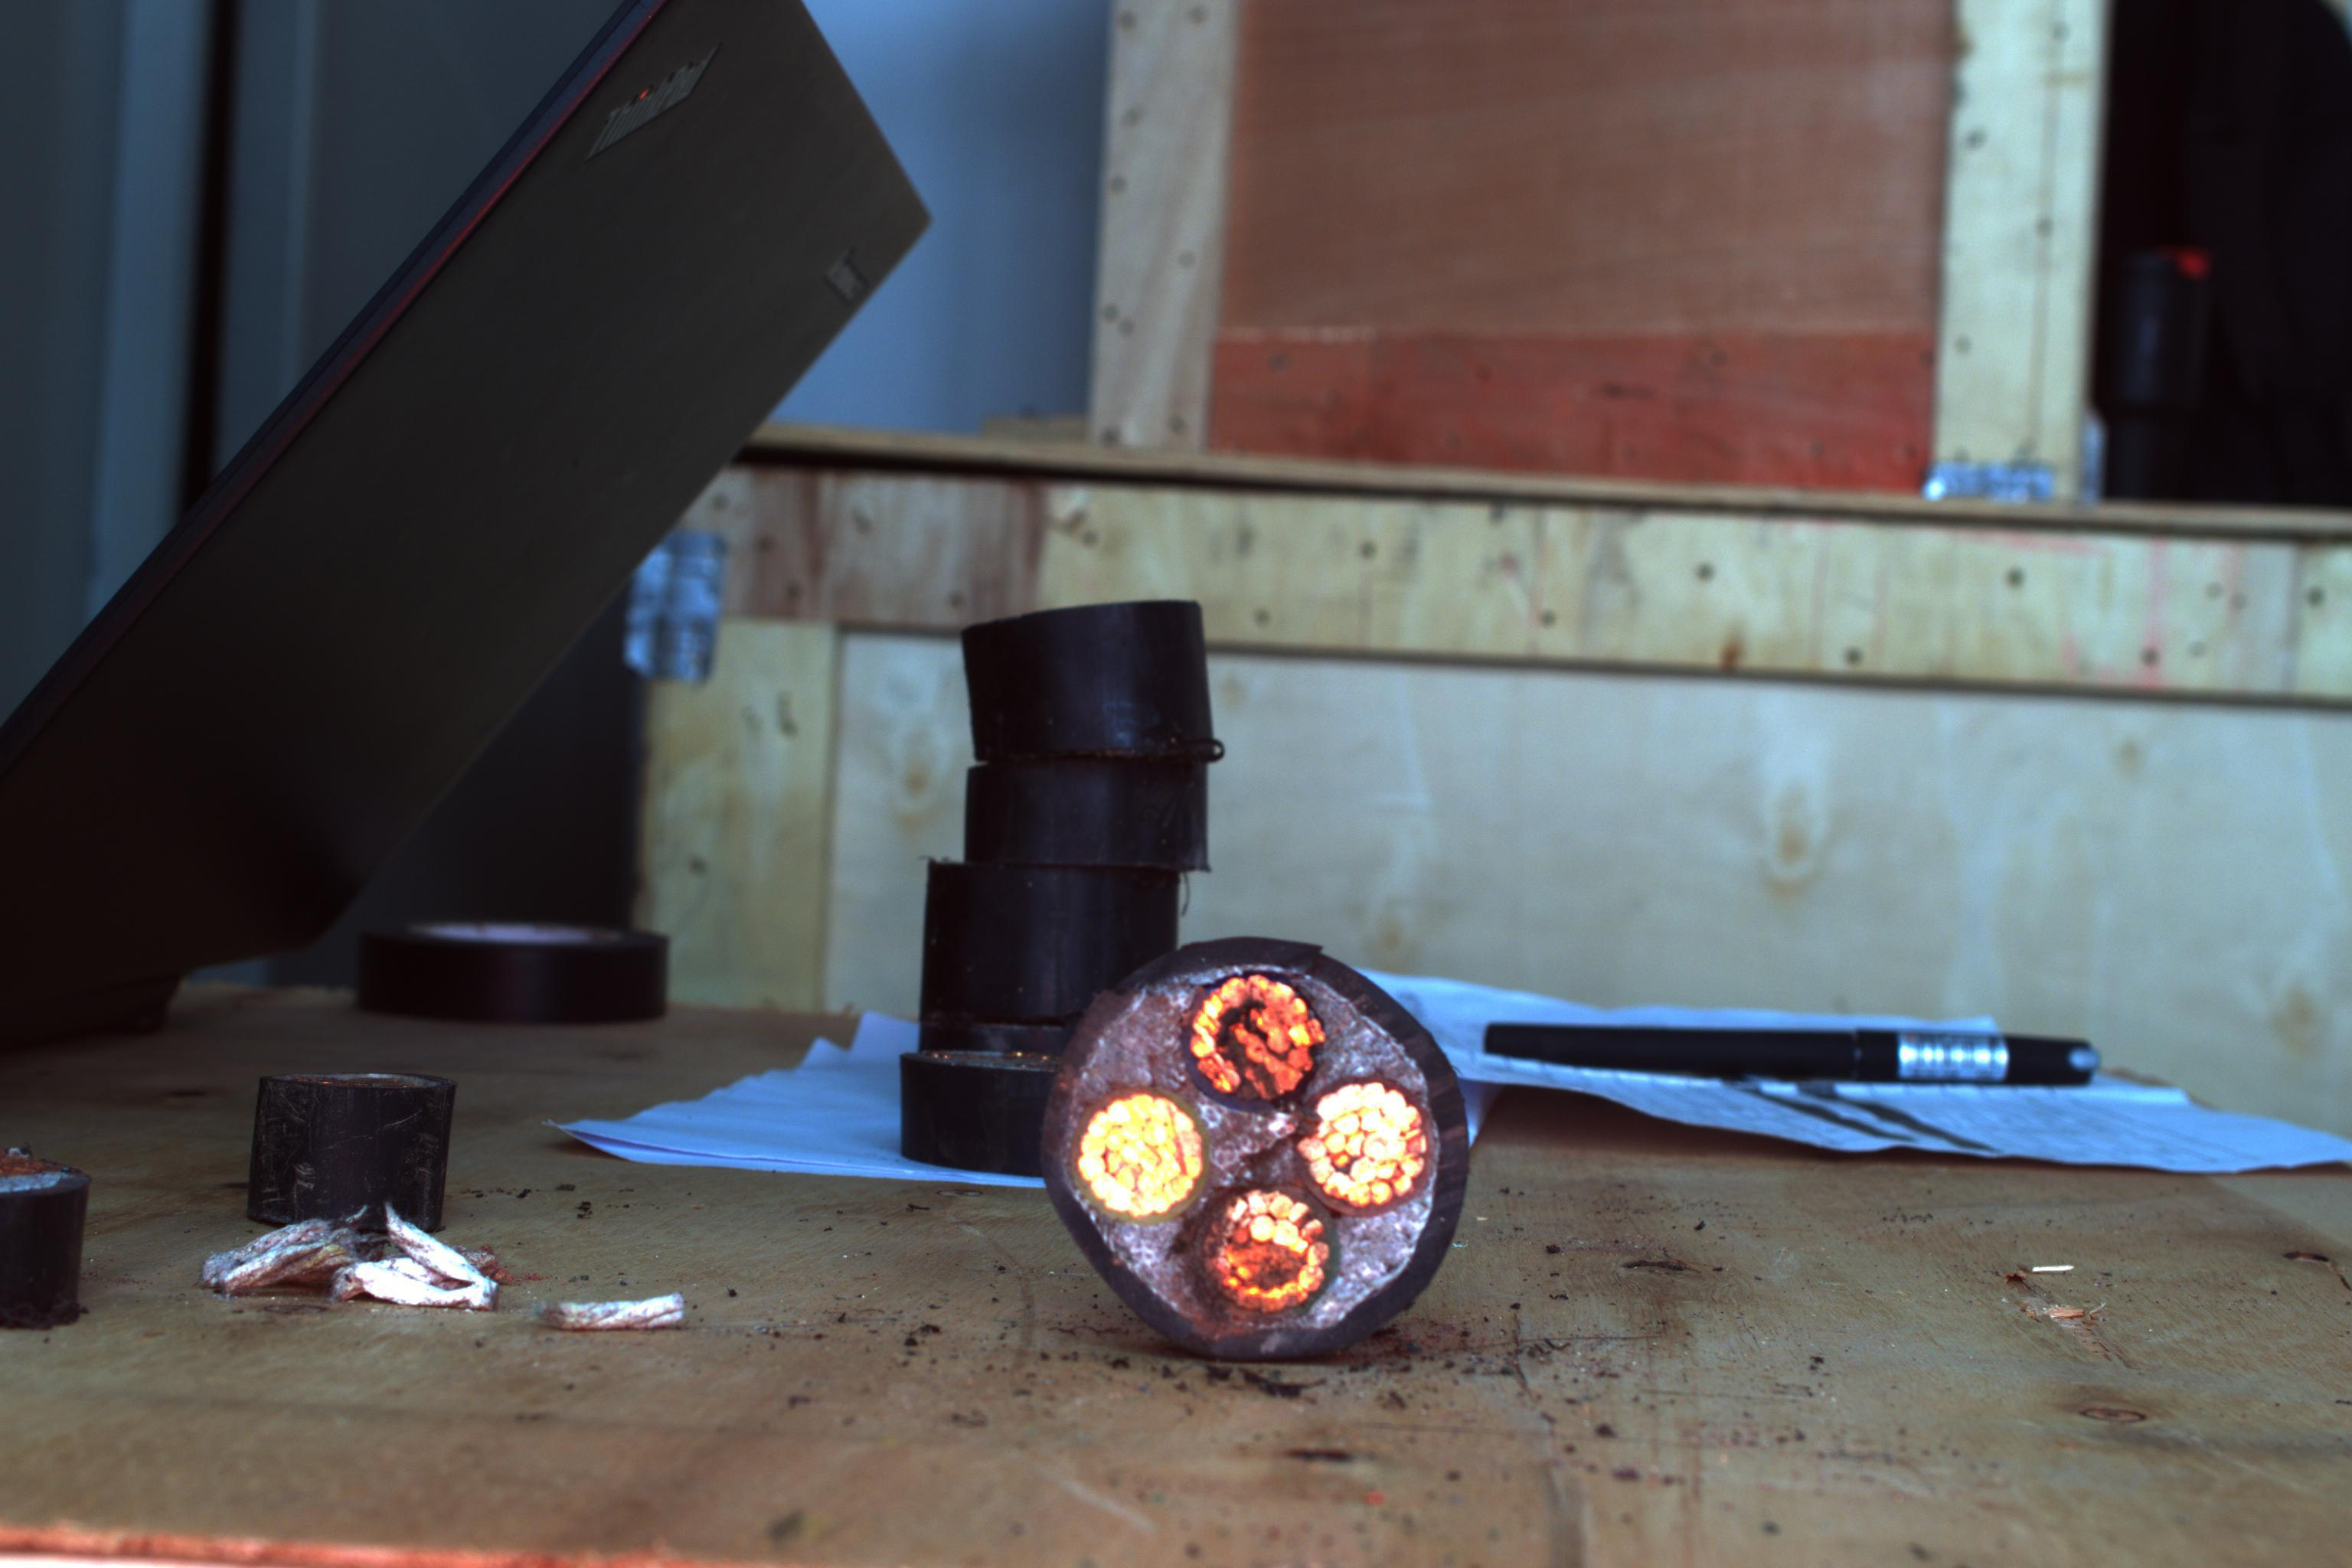YJV_0.6_1kV_4x120: (1052, 931, 1472, 1374)
